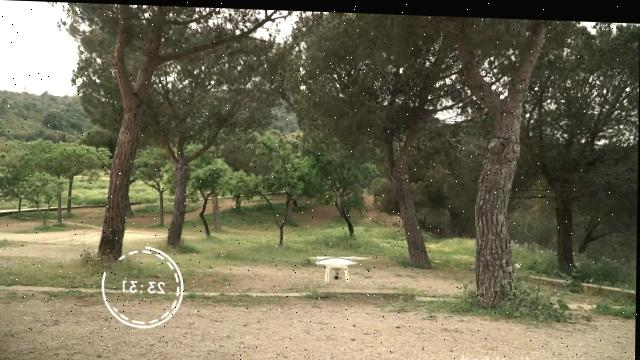drone: (306, 249, 372, 283)
